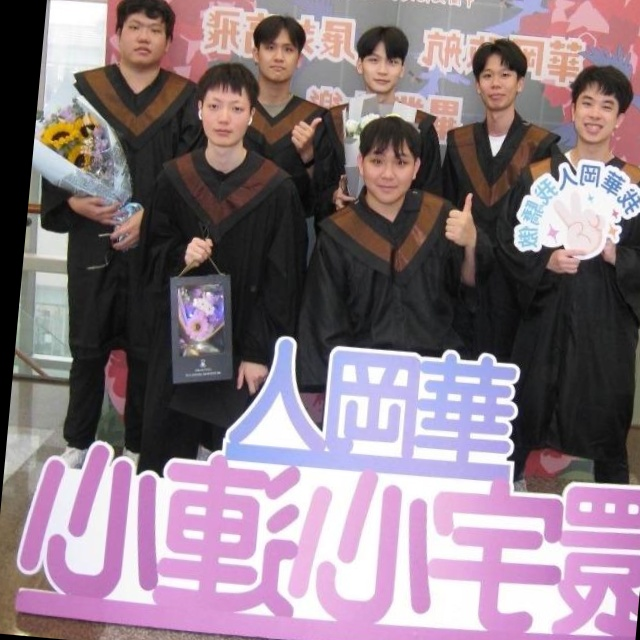Sin_Casco_Mascarrilla: (352, 113, 424, 208), (193, 60, 261, 152), (561, 63, 634, 146), (467, 34, 532, 114), (349, 21, 411, 96), (113, 0, 180, 69), (248, 12, 308, 86)
